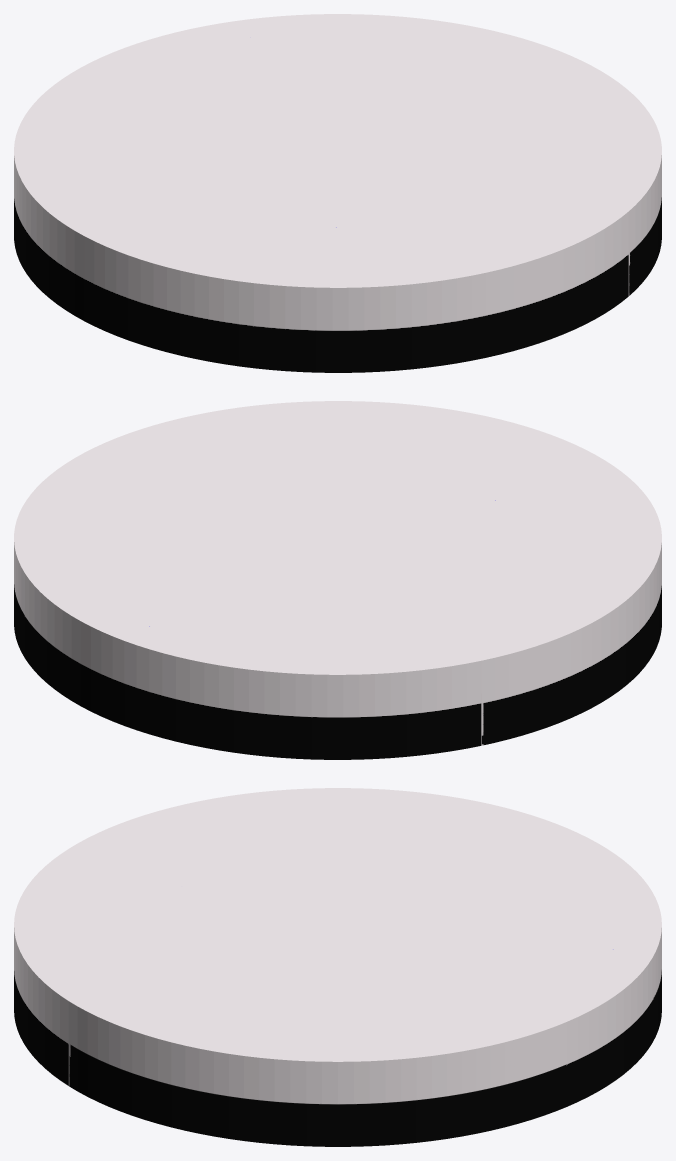
Rendered from Piece.fbx.
3 views of the same model, one above another, from view 1: azimuth 30°, elevation 25°; view 2: azimuth 150°, elevation 25°; view 3: azimuth 270°, elevation 25° (orthographic).
Parts seen in each view (by area): view 1: Cylinder; view 2: Cylinder; view 3: Cylinder.
Boxes of the visible parts, x1,y1,x2,y2 form: Cylinder: (14,14,661,372); Cylinder: (14,401,661,759); Cylinder: (14,788,661,1146).
Size of the model in its own units: 385 by 55.79 by 385.
